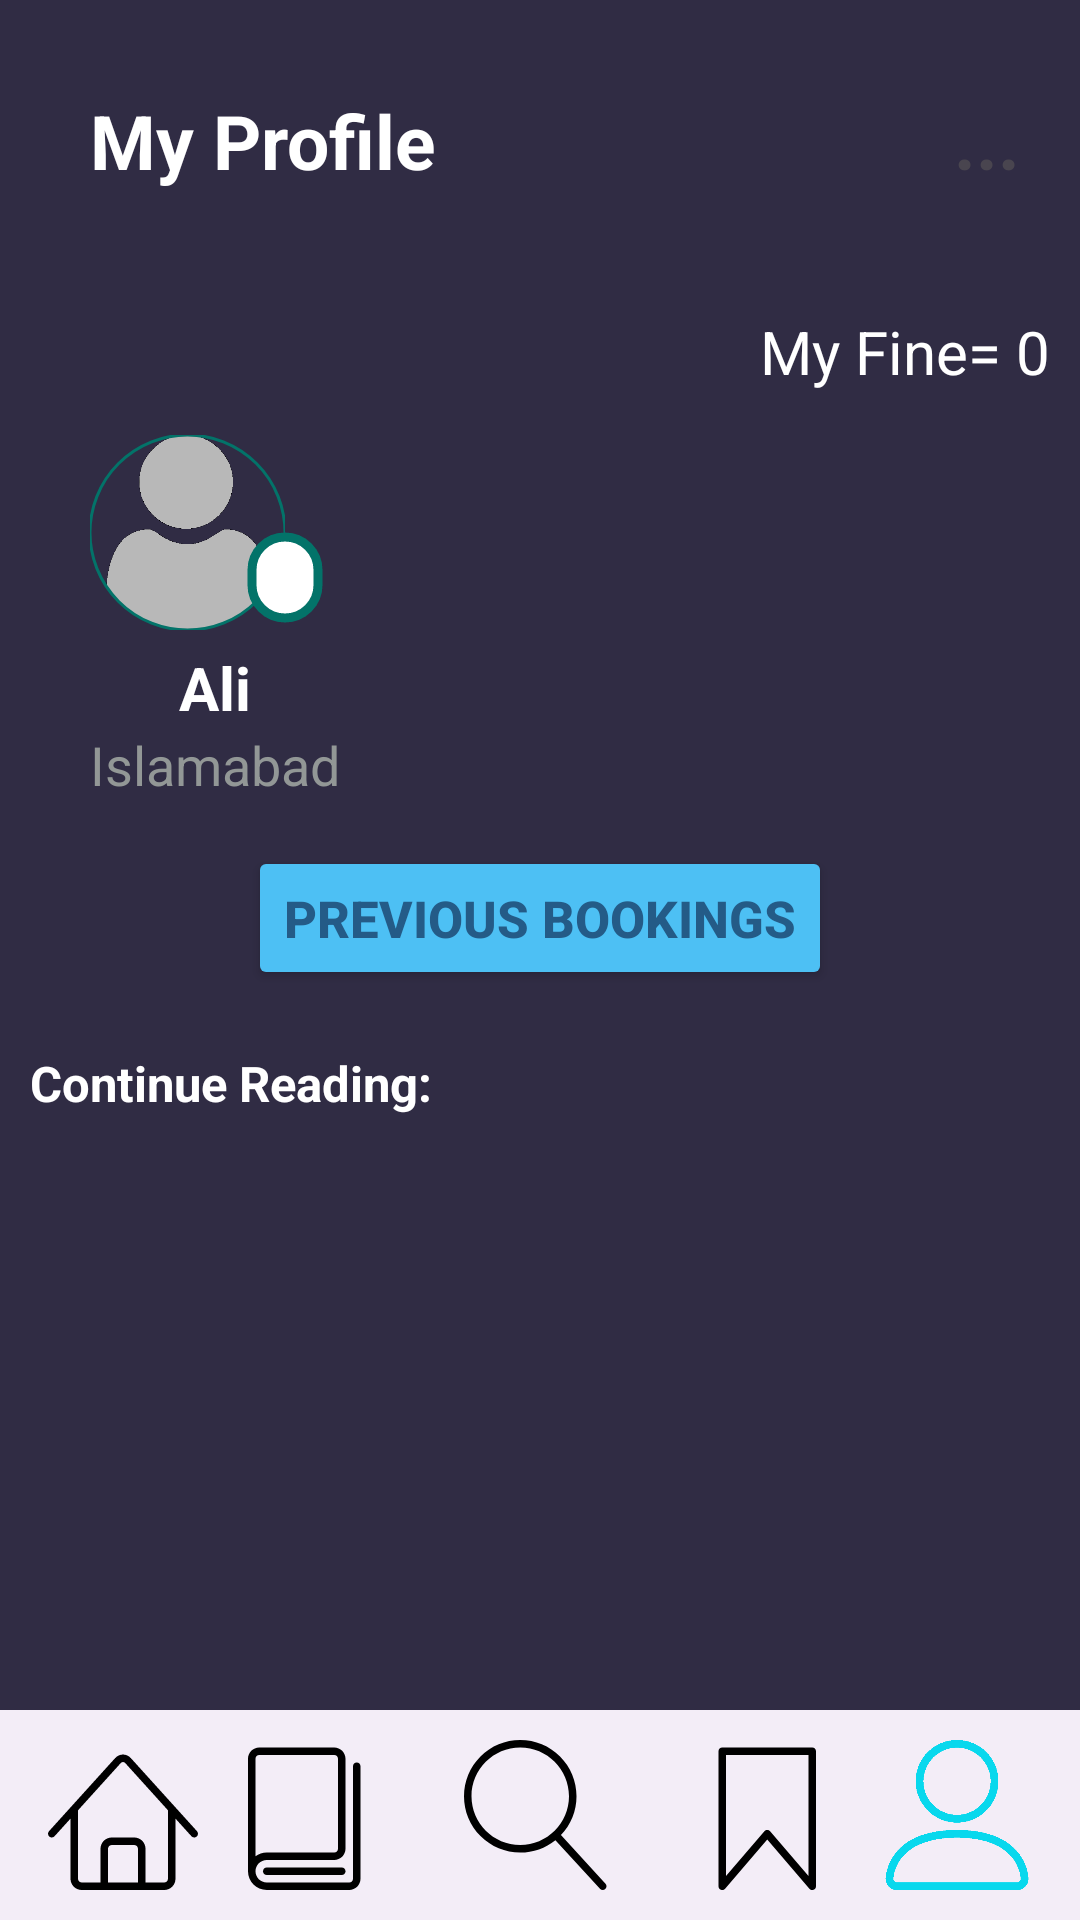

Where to tap for icons on this 1080 x 1920 app screen, as (x=x, y=y):
books: (x=304, y=1818)
fav: (x=767, y=1818)
home: (x=123, y=1822)
mag: (x=535, y=1815)
